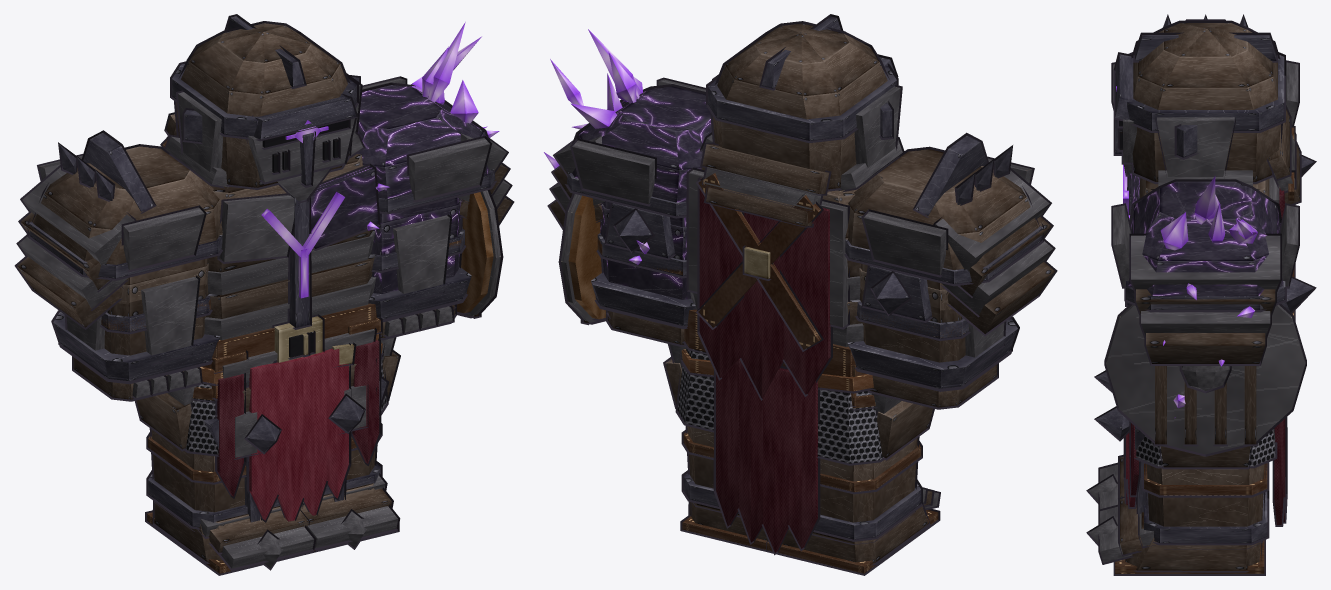
Rendered from KnightApprenticeInfected.fbx.
The picture shows the model from 3 angles, left to right: view 1: azimuth 30°, elevation 25°; view 2: azimuth 150°, elevation 25°; view 3: azimuth 270°, elevation 25°; orthographic projection. The views are drawn at different scales.
Visible parts, largest first — view 1: LowerTorso_Armor, RightUpperArm_Armor, Head_Armor, UpperTorso_Armor, LeftUpperArm_Armor, RightFoot_Armor, RightLowerArm_Armor, RightLowerLeg_Armor, RightHand_Armor, LeftLowerArm_Armor, LeftFoot_Armor, LeftLowerArm_Shield (+16 smaller); view 2: Head_Armor, RightUpperArm_Armor, UpperTorso_Armor, LowerTorso_Armor, LeftUpperArm_Armor, RightLowerArm_Armor, RightHand_Armor, RightFoot_Armor, RightLowerLeg_Armor, LeftLowerArm_Armor, LeftLowerArm_Shield, LeftHand_Armor (+12 smaller); view 3: LeftUpperArm_Armor, Head_Armor, LeftLowerArm_Shield, LeftFoot_Armor, LeftLowerLeg_Armor, LowerTorso_Armor, Head_ArmorOutline, LeftUpperArm_Glow, LeftUpperArm_ArmorOutline, UpperTorso_Armor, LeftFoot_ArmorOutline, LowerTorso_ArmorOutline (+7 smaller).
Part boxes in pixels (x1=…): LowerTorso_Armor: x1=136, y1=303, x2=398, y2=521; RightUpperArm_Armor: x1=17, y1=133, x2=222, y2=332; Head_Armor: x1=166, y1=16, x2=360, y2=200; UpperTorso_Armor: x1=162, y1=133, x2=378, y2=340; LeftUpperArm_Armor: x1=357, y1=78, x2=511, y2=270; RightFoot_Armor: x1=147, y1=474, x2=314, y2=573; RightLowerArm_Armor: x1=60, y1=263, x2=212, y2=380; RightLowerLeg_Armor: x1=148, y1=411, x2=279, y2=522; RightHand_Armor: x1=53, y1=312, x2=220, y2=399; LeftLowerArm_Armor: x1=371, y1=199, x2=466, y2=318; LeftFoot_Armor: x1=298, y1=464, x2=398, y2=550; LeftLowerArm_Shield: x1=457, y1=190, x2=500, y2=316; Head_Armor: x1=702, y1=16, x2=900, y2=225; RightUpperArm_Armor: x1=845, y1=135, x2=1054, y2=338; UpperTorso_Armor: x1=688, y1=134, x2=902, y2=398; LowerTorso_Armor: x1=665, y1=309, x2=932, y2=552; LeftUpperArm_Armor: x1=550, y1=79, x2=711, y2=275; RightLowerArm_Armor: x1=855, y1=266, x2=1010, y2=387; RightHand_Armor: x1=847, y1=318, x2=1017, y2=407; RightFoot_Armor: x1=768, y1=483, x2=938, y2=573; RightLowerLeg_Armor: x1=813, y1=438, x2=921, y2=542; LeftLowerArm_Armor: x1=595, y1=203, x2=691, y2=324; LeftLowerArm_Shield: x1=561, y1=194, x2=605, y2=322; LeftHand_Armor: x1=591, y1=272, x2=696, y2=344; LeftUpperArm_Armor: x1=1113, y1=181, x2=1298, y2=363; Head_Armor: x1=1115, y1=23, x2=1299, y2=204; LeftLowerArm_Shield: x1=1106, y1=305, x2=1305, y2=454; LeftFoot_Armor: x1=1089, y1=491, x2=1267, y2=573; LeftLowerLeg_Armor: x1=1096, y1=408, x2=1267, y2=526; LowerTorso_Armor: x1=1126, y1=419, x2=1285, y2=524; Head_ArmorOutline: x1=1113, y1=20, x2=1301, y2=204; LeftUpperArm_Glow: x1=1160, y1=176, x2=1257, y2=317; LeftUpperArm_ArmorOutline: x1=1111, y1=179, x2=1299, y2=365; UpperTorso_Armor: x1=1126, y1=127, x2=1294, y2=316; LeftFoot_ArmorOutline: x1=1086, y1=490, x2=1269, y2=575; LowerTorso_ArmorOutline: x1=1123, y1=417, x2=1287, y2=526.
Size of the model in its own units: 547 by 563 by 232.
Materials: 4 (3 with a texture image).
